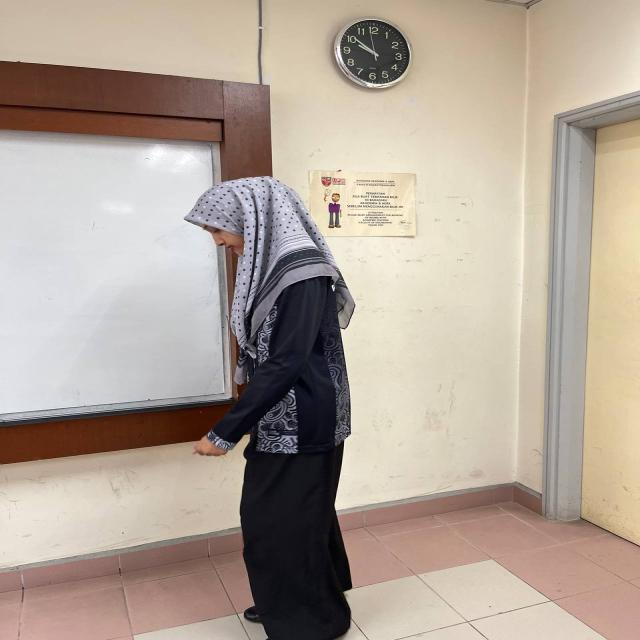person_without_labcoat: (185, 176, 354, 640)
